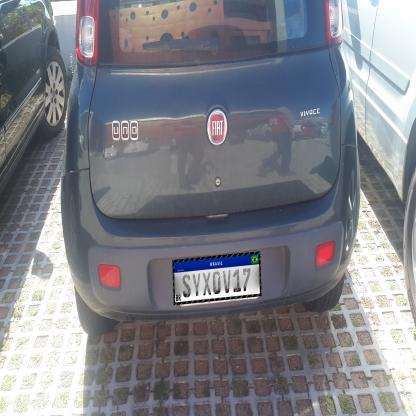PlacaM: (172, 251, 262, 305)
